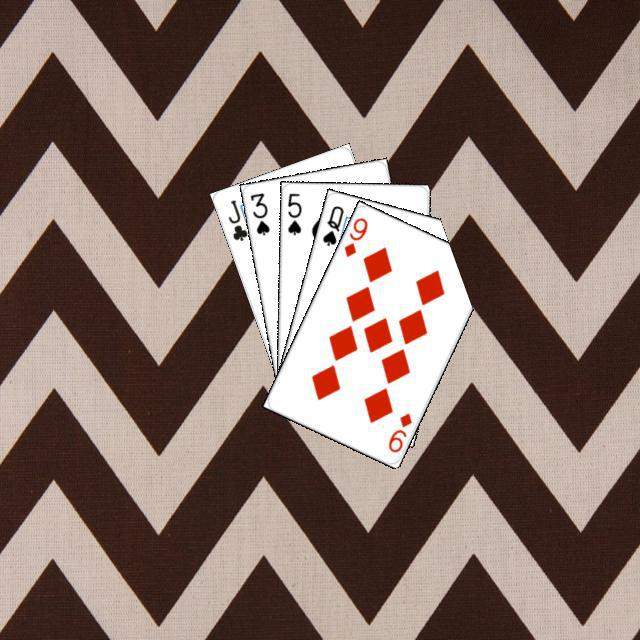3s: (245, 188, 271, 237)
5s: (283, 188, 303, 237)
9d: (339, 212, 369, 259), (383, 408, 413, 454)
Jc: (223, 195, 249, 243)
Qs: (317, 201, 345, 247)
